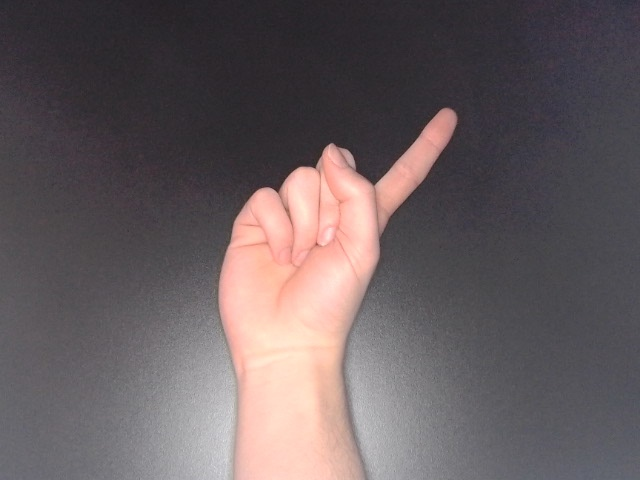z: (209, 100, 463, 404)
